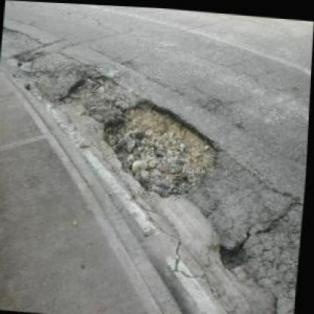Hueco: (95, 90, 227, 202), (57, 66, 120, 110), (216, 235, 254, 269), (13, 47, 44, 73)
